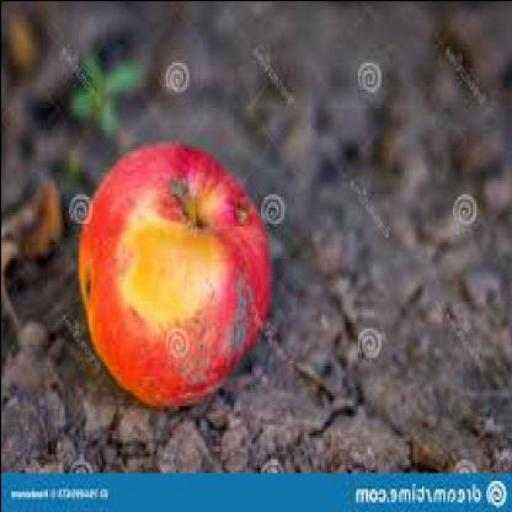biodegradable: (79, 139, 274, 410)
